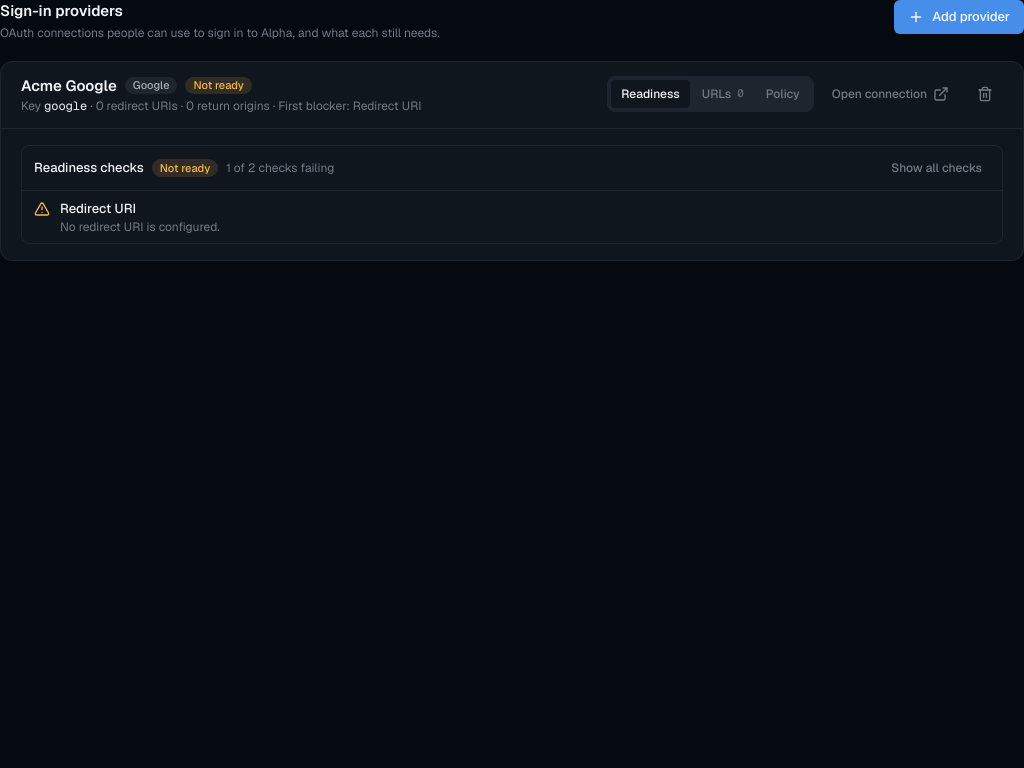
ProjectSignInTab › switches a binding between readiness, URLs and policy
Click the tab "URLs 0": click(723, 94) left=692, top=80, right=754, bottom=108
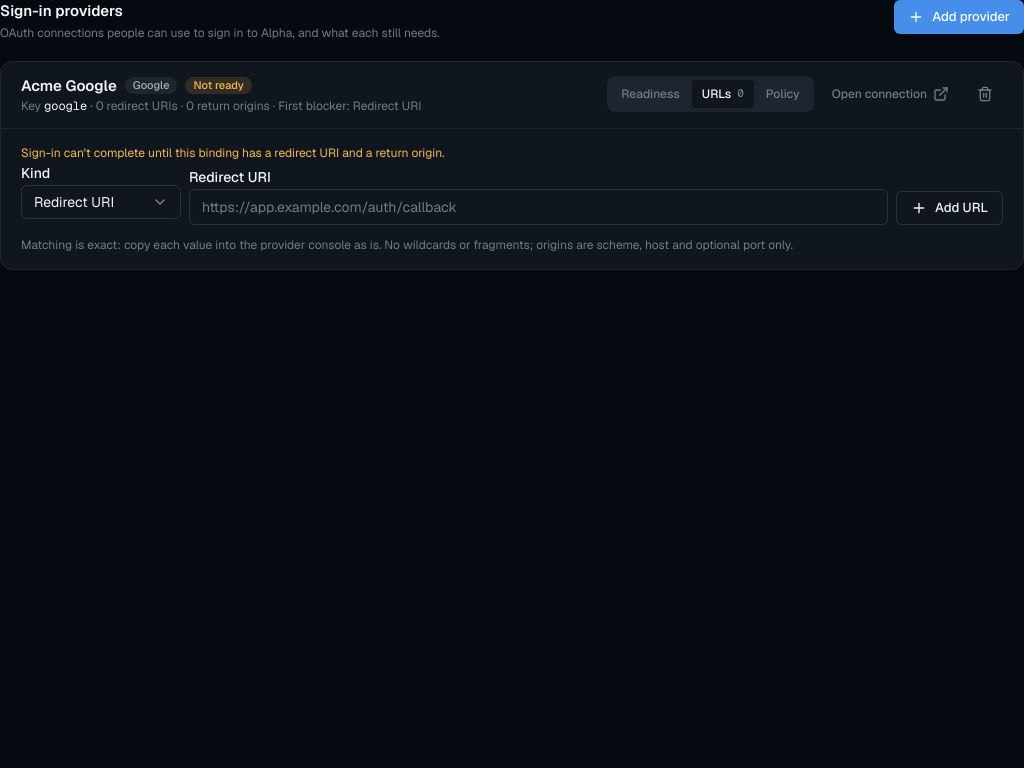
Result: the button "Add URL" is shown at left=896, top=191, right=1003, bottom=225
Click the tab "Policy": click(783, 94) left=756, top=80, right=810, bottom=108
(page scrolled)
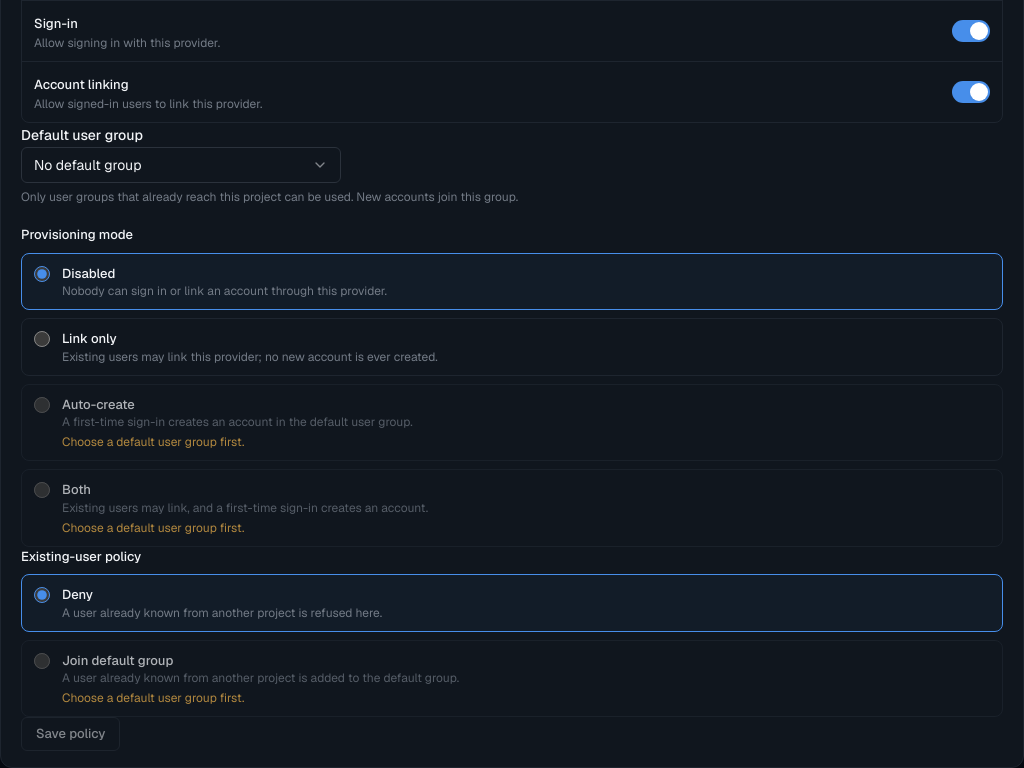
Result: the button "Save policy" is shown at left=21, top=717, right=120, bottom=751
